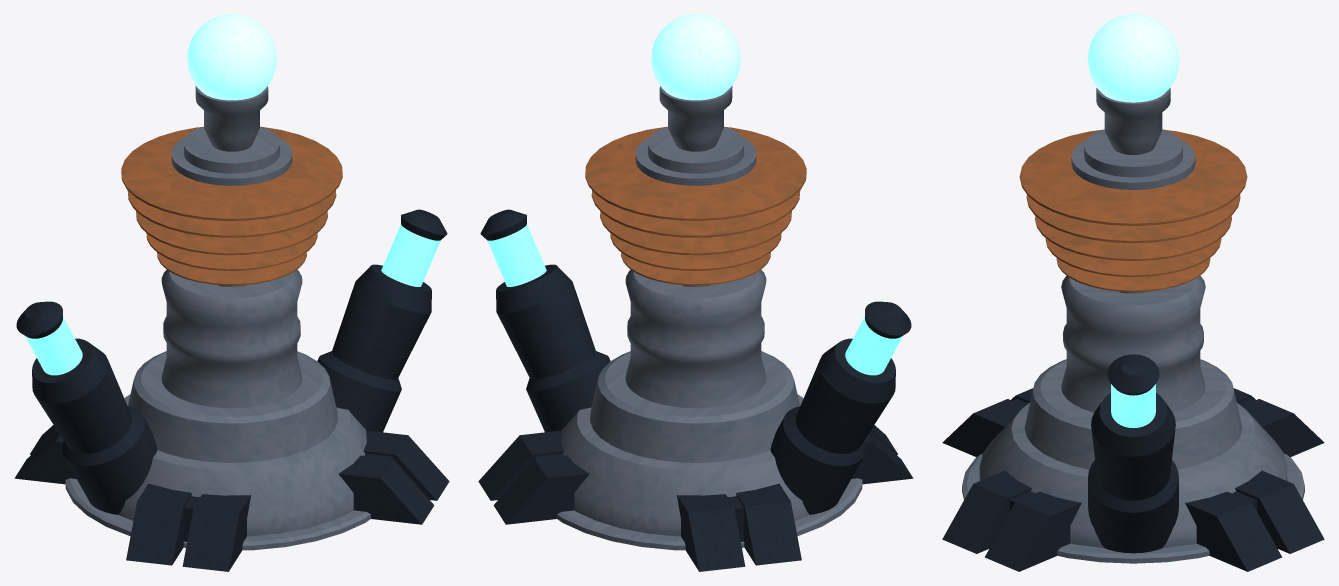
File: tesla_coil.fbx
The picture shows the model from 3 angles, left to right: view 1: azimuth 30°, elevation 25°; view 2: azimuth 150°, elevation 25°; view 3: azimuth 270°, elevation 25°; orthographic projection. The views are drawn at different scales.
Visible parts, largest first — view 1: MainCoil, SubCoils, BaseCorners; view 2: MainCoil, SubCoils, BaseCorners; view 3: MainCoil, BaseCorners, SubCoils.
Boxes of the visible parts, bbox=[...] form: MainCoil: bbox=[65, 14, 370, 550]; SubCoils: bbox=[16, 209, 447, 514]; BaseCorners: bbox=[14, 425, 449, 571]; MainCoil: bbox=[557, 14, 862, 550]; SubCoils: bbox=[480, 209, 911, 514]; BaseCorners: bbox=[478, 425, 913, 571]; MainCoil: bbox=[962, 14, 1304, 563]; BaseCorners: bbox=[942, 388, 1324, 571]; SubCoils: bbox=[1088, 354, 1178, 553].
Size of the model in its own units: 584 by 608 by 446.
Materials: 1 (1 with a texture image).
